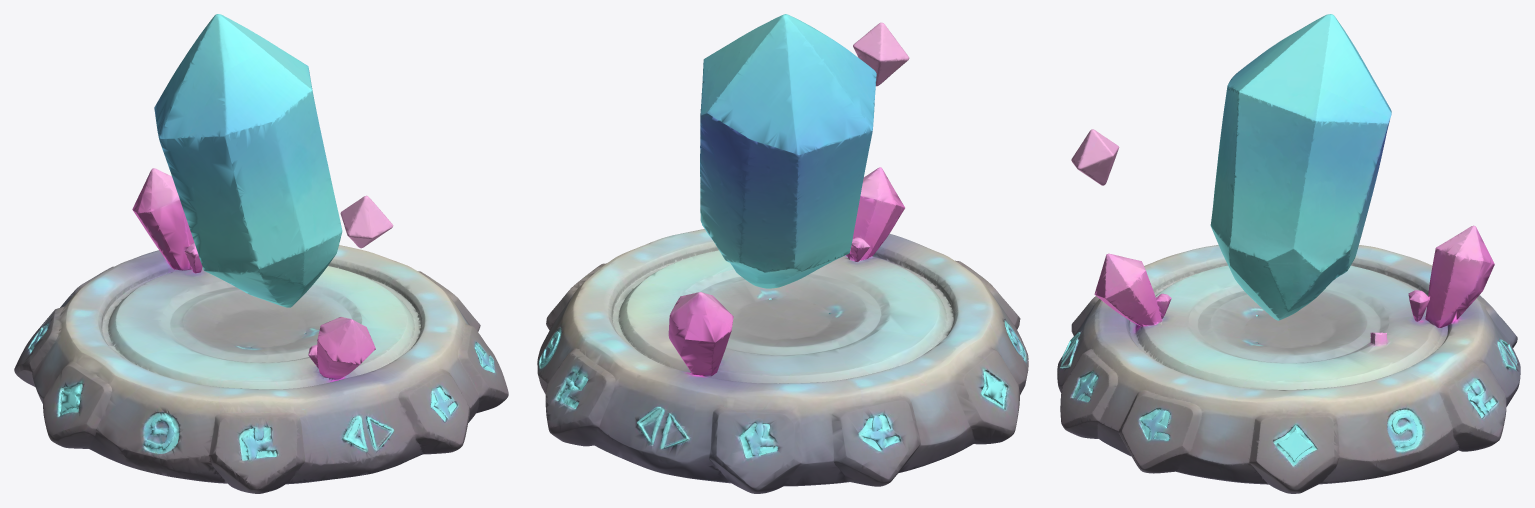
The model's file is prop_altar.glb.
3 renders of one model, left to right at view 1: azimuth 30°, elevation 25°; view 2: azimuth 150°, elevation 25°; view 3: azimuth 270°, elevation 25°, orthographic. The views are drawn at different scales.
Visible parts, largest first — view 1: tripo_node_cdc95529-fbc3-4764-be52-97feb6426805; view 2: tripo_node_cdc95529-fbc3-4764-be52-97feb6426805; view 3: tripo_node_cdc95529-fbc3-4764-be52-97feb6426805.
Part boxes in pixels (bbox=[...]): tripo_node_cdc95529-fbc3-4764-be52-97feb6426805: bbox=[14, 14, 508, 493]; tripo_node_cdc95529-fbc3-4764-be52-97feb6426805: bbox=[537, 14, 1028, 493]; tripo_node_cdc95529-fbc3-4764-be52-97feb6426805: bbox=[1057, 14, 1520, 493].
Size of the model in its own units: 1 by 0.8302 by 0.9405.
Materials: 1 (1 with a texture image).
